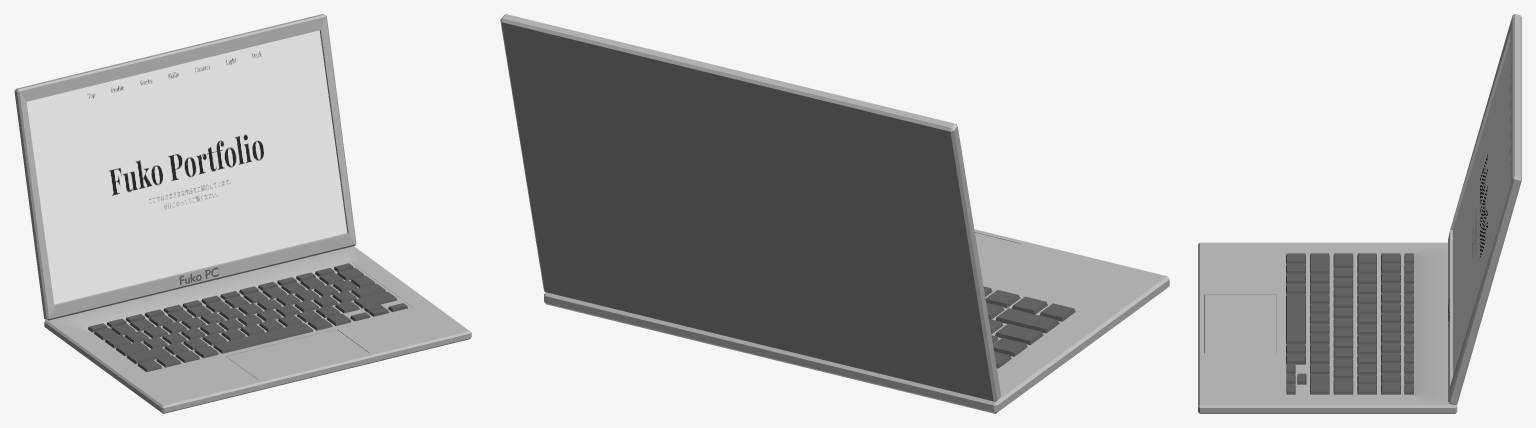
Rendered from fuko-pc.glb.
3 renders of one model, left to right at view 1: azimuth 30°, elevation 25°; view 2: azimuth 150°, elevation 25°; view 3: azimuth 270°, elevation 25°, orthographic. The views are drawn at different scales.
Visible parts, largest first — view 1: Cube.001, Cube, Cube.002; view 2: Cube.001, Cube, Cube.002; view 3: Cube, Cube.002, Cube.001.
Part boxes in pixels (box(x1,y1,x2,y2)): Cube.001: box(14, 14, 356, 320); Cube: box(44, 246, 471, 413); Cube.002: box(88, 263, 407, 372); Cube.001: box(500, 14, 1000, 401); Cube: box(544, 229, 1169, 413); Cube.002: box(983, 286, 1075, 368); Cube: box(1198, 242, 1457, 413); Cube.002: box(1286, 253, 1413, 394); Cube.001: box(1448, 14, 1521, 404).
Size of the model in its own units: 2.4 by 1.63 by 2.
3 materials, 1 textured.
